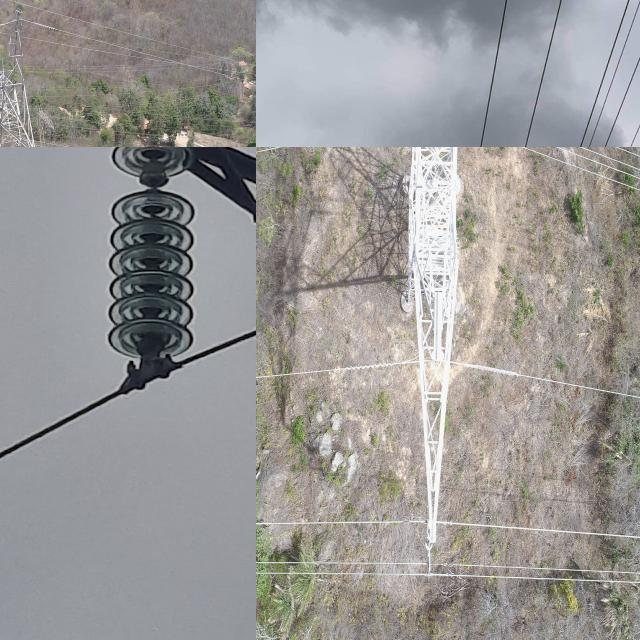杆塔: (392, 147, 476, 572), (0, 0, 75, 147)
正常电缆: (0, 314, 256, 480)
正常绝缘子: (106, 147, 201, 381), (411, 517, 446, 578)
绝缘子破损: (135, 166, 176, 189)
